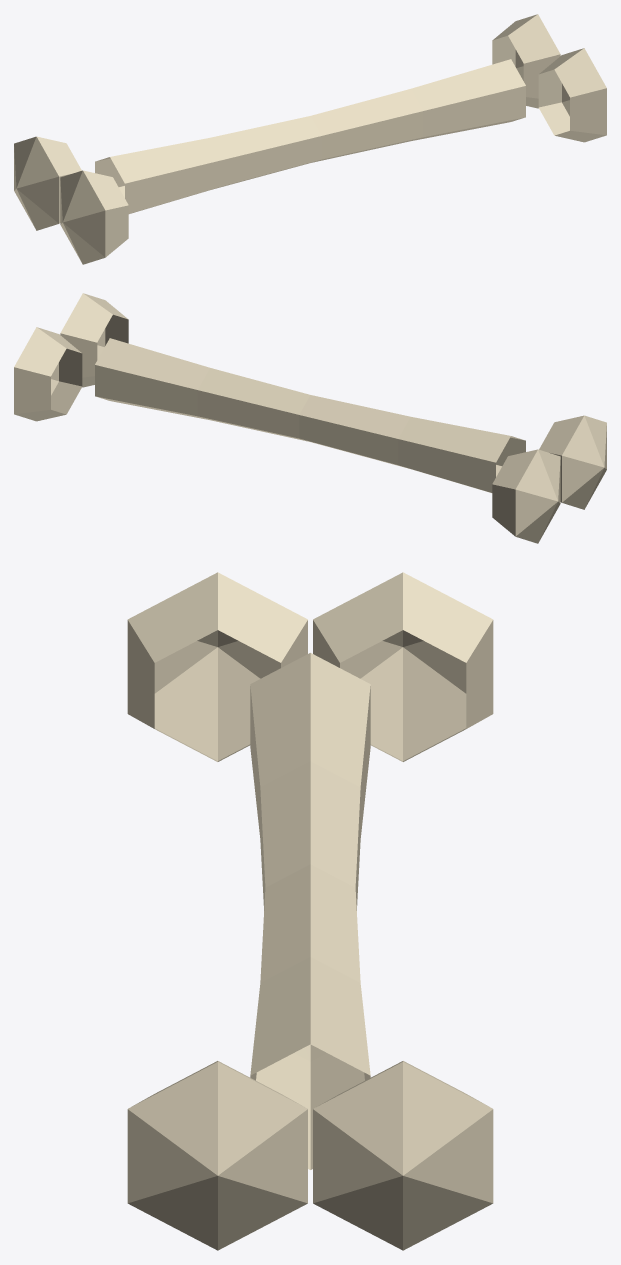
The model's file is mammoth_bone.obj.
3 renders of one model, top to bottom at view 1: azimuth 30°, elevation 25°; view 2: azimuth 150°, elevation 25°; view 3: azimuth 270°, elevation 25°, orthographic. The views are drawn at different scales.
Parts seen in each view (by area): view 1: mammoth_bone; view 2: mammoth_bone; view 3: mammoth_bone.
Boxes of the visible parts, box(x1,y1,x2,y2) form: mammoth_bone: box(14, 14, 606, 264); mammoth_bone: box(14, 293, 606, 543); mammoth_bone: box(127, 572, 493, 1250).
Size of the model in its own units: 2.16 by 0.36 by 0.6318.
